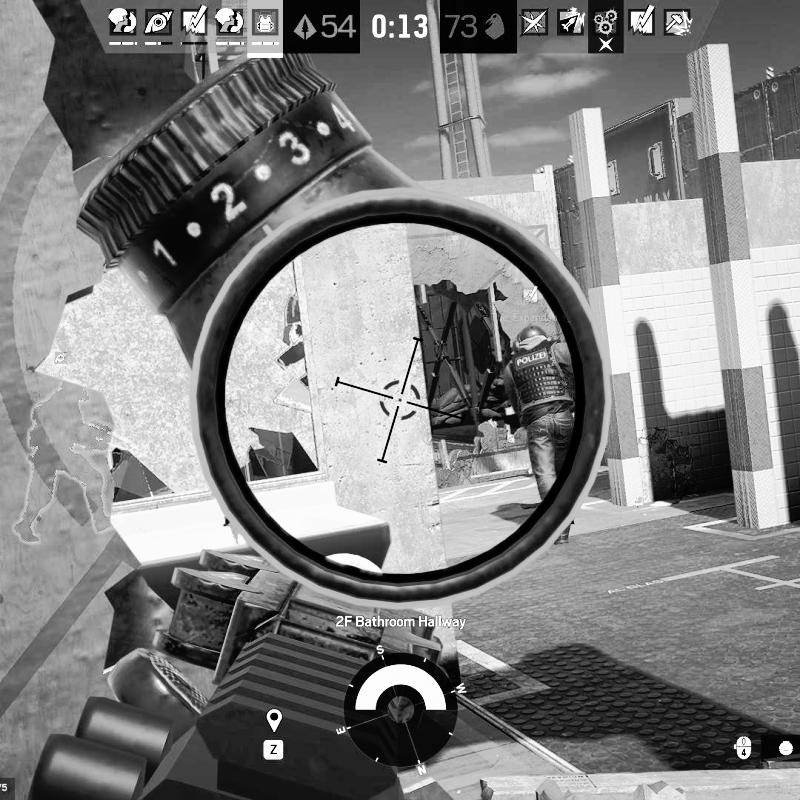Character: (499, 323, 583, 546)
Friend_label: (495, 284, 570, 323), (41, 349, 83, 378)
Head: (513, 324, 553, 349)
